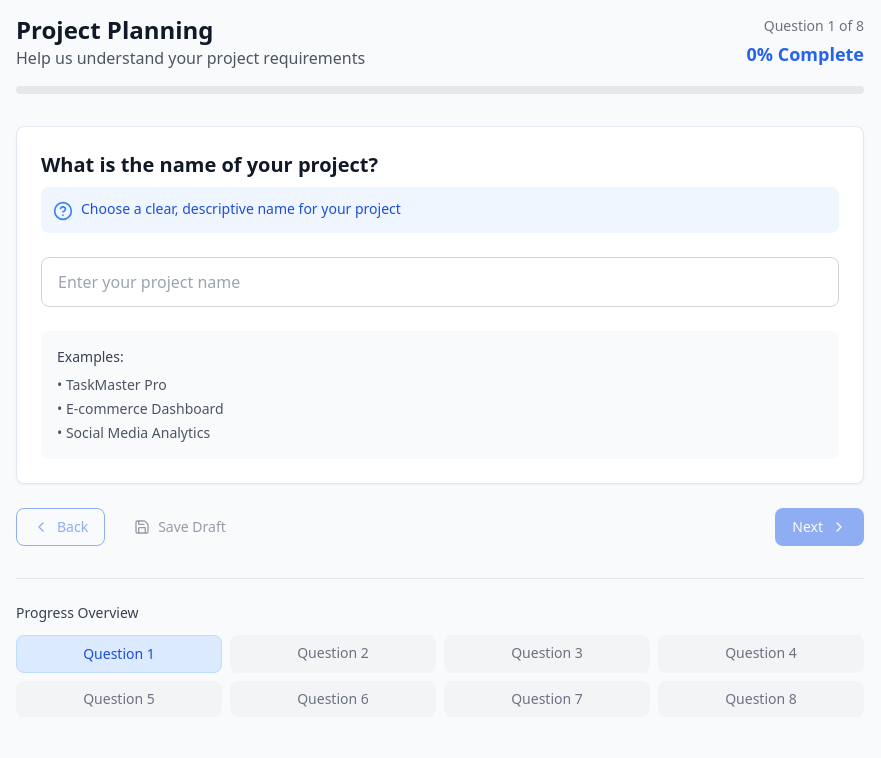
Test: PlanningFlow › Question Navigation › should show progress update when navigating between questions
This screenshot has width=881, height=758.
# Fill first question
Type "Test Project" into the field with placeholder "Enter your project name".
click(440, 282); type("Test Project")  # box left=41, top=257, right=839, bottom=307
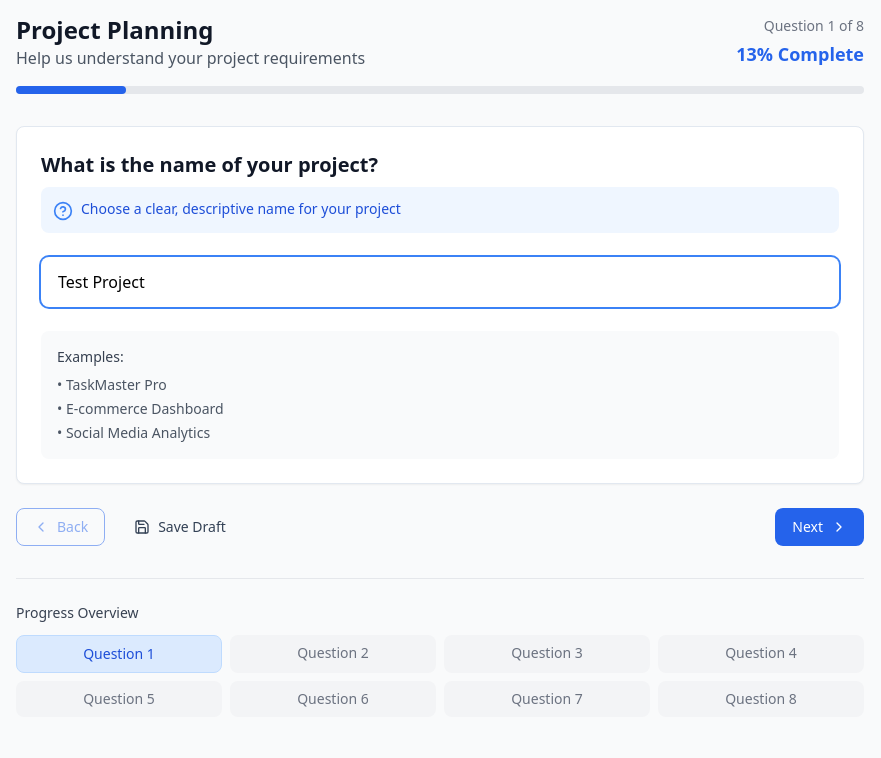
expect the button "Next" is enabled: met
Click the button "Next".
click(820, 527)  # box left=775, top=508, right=864, bottom=546
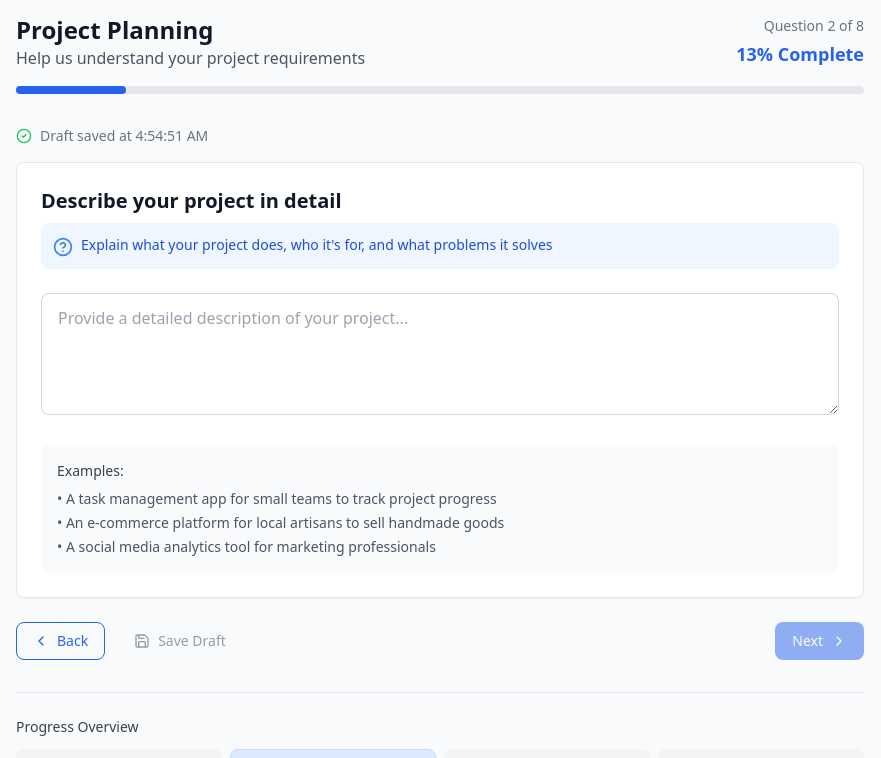
expect the text "Question 2 of 8" is shown: met, box left=764, top=16, right=864, bottom=35
